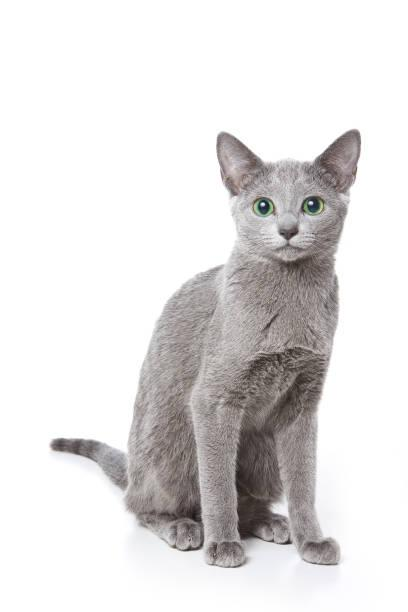rblue: (212, 119, 366, 271)
